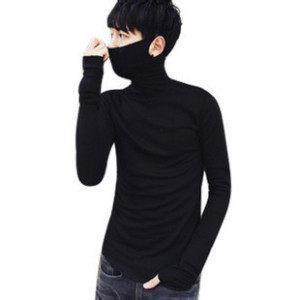yes_mask: (102, 1, 184, 79)
